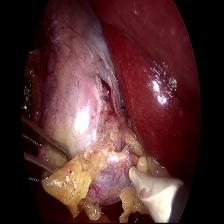Grasper: (21, 116, 73, 190)
Hook: (123, 159, 182, 219)
